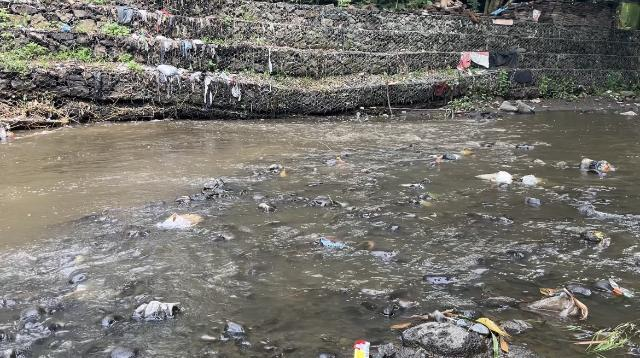Sampah Anorganik: (532, 289, 593, 320), (576, 153, 621, 177), (469, 171, 511, 184), (607, 279, 634, 296), (313, 236, 341, 251), (521, 175, 545, 186), (402, 183, 431, 192), (355, 340, 368, 358), (359, 165, 372, 173), (459, 150, 470, 156)
Sampah Organik: (400, 308, 514, 356), (576, 322, 640, 356), (157, 216, 199, 228), (415, 194, 442, 206), (357, 241, 381, 254), (589, 231, 606, 243), (175, 195, 191, 203), (278, 171, 289, 177), (338, 158, 344, 164), (434, 158, 439, 162)
